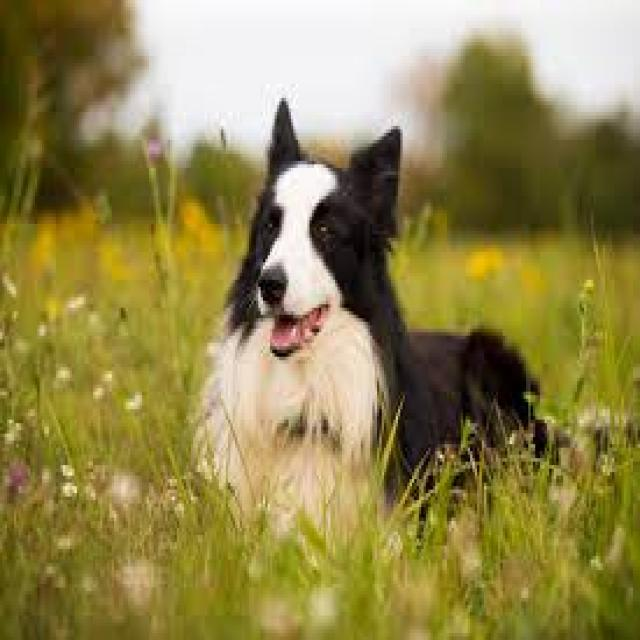BORDER_COLLIE: (177, 81, 597, 545)
